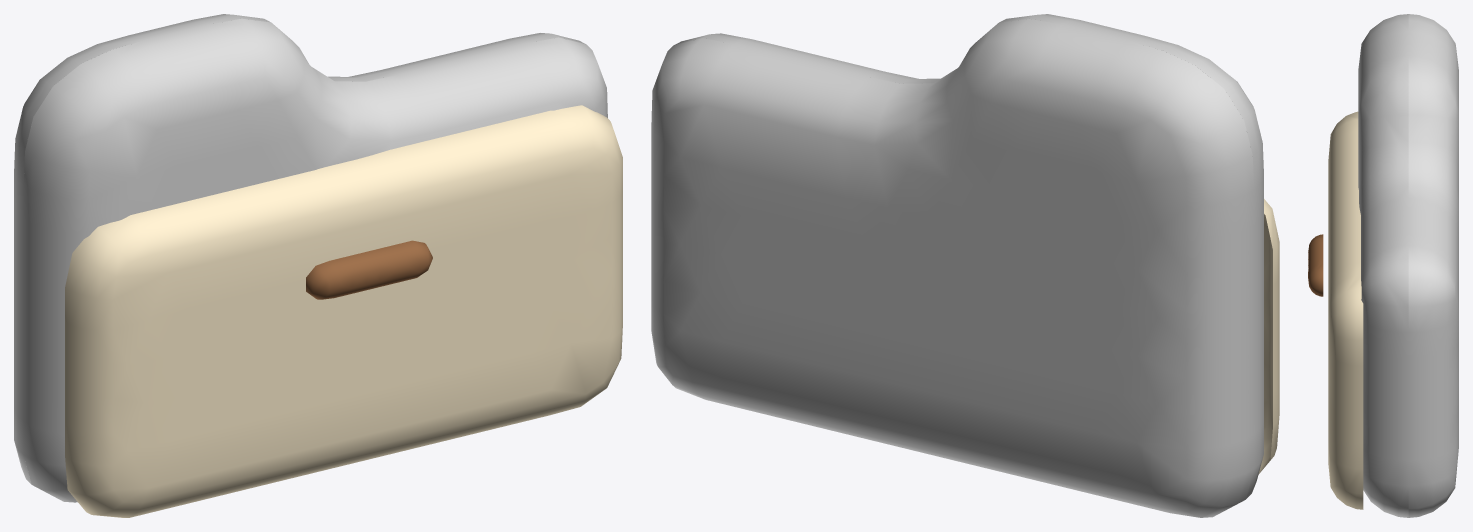
Rendered from folder.glb.
3 renders of one model, left to right at view 1: azimuth 30°, elevation 25°; view 2: azimuth 150°, elevation 25°; view 3: azimuth 270°, elevation 25°, orthographic. The views are drawn at different scales.
Visible parts, largest first — view 1: folder; view 2: folder; view 3: folder.
Boxes of the visible parts, x1,y1,x2,y2 form: folder: [14, 14, 622, 517]; folder: [651, 14, 1279, 517]; folder: [1308, 14, 1458, 517].
Bounding box in the file's own units: 1 × 0.73 × 0.3.
